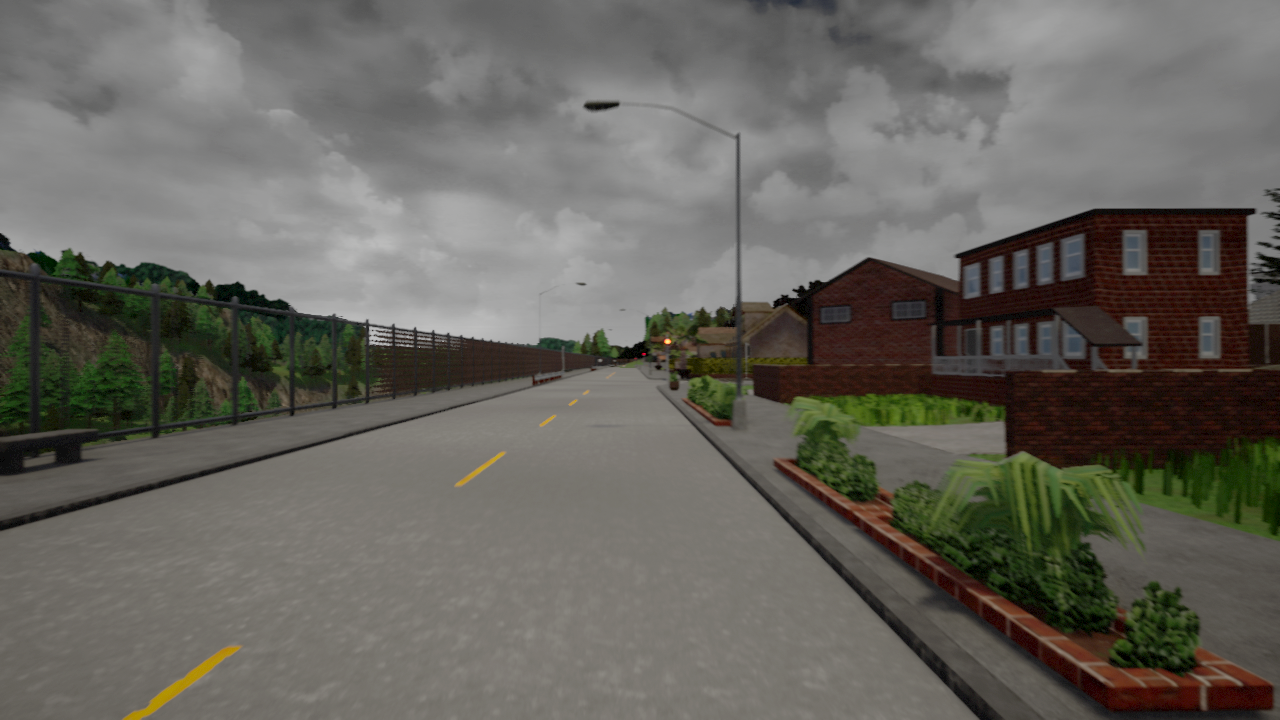red: (664, 337, 671, 354)
